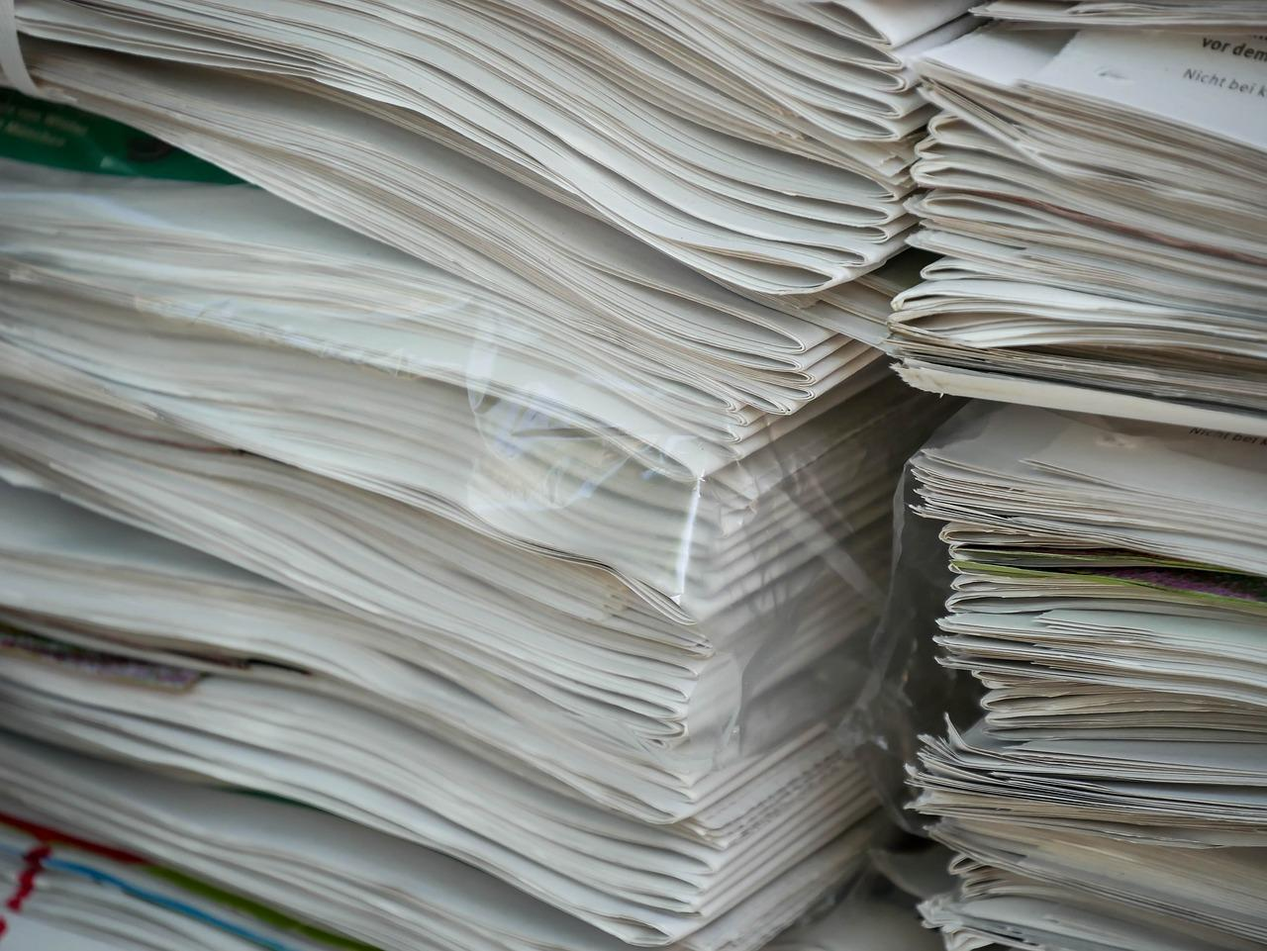Paper: (3, 1, 1267, 944)
